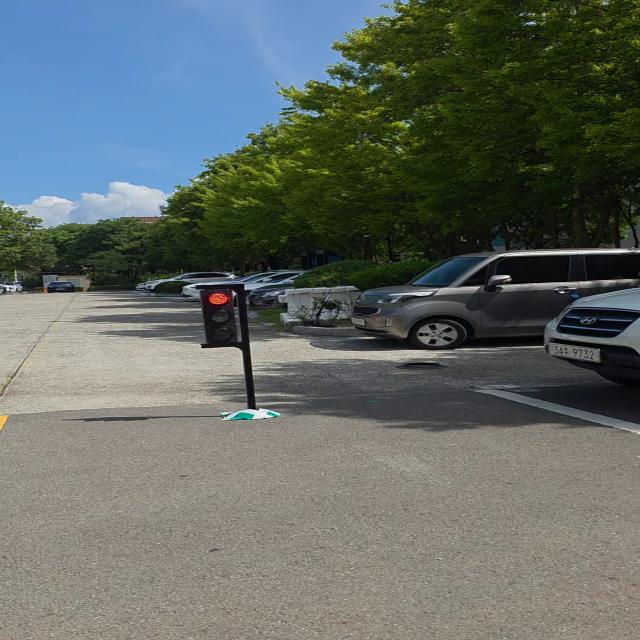red: (194, 284, 247, 348)
